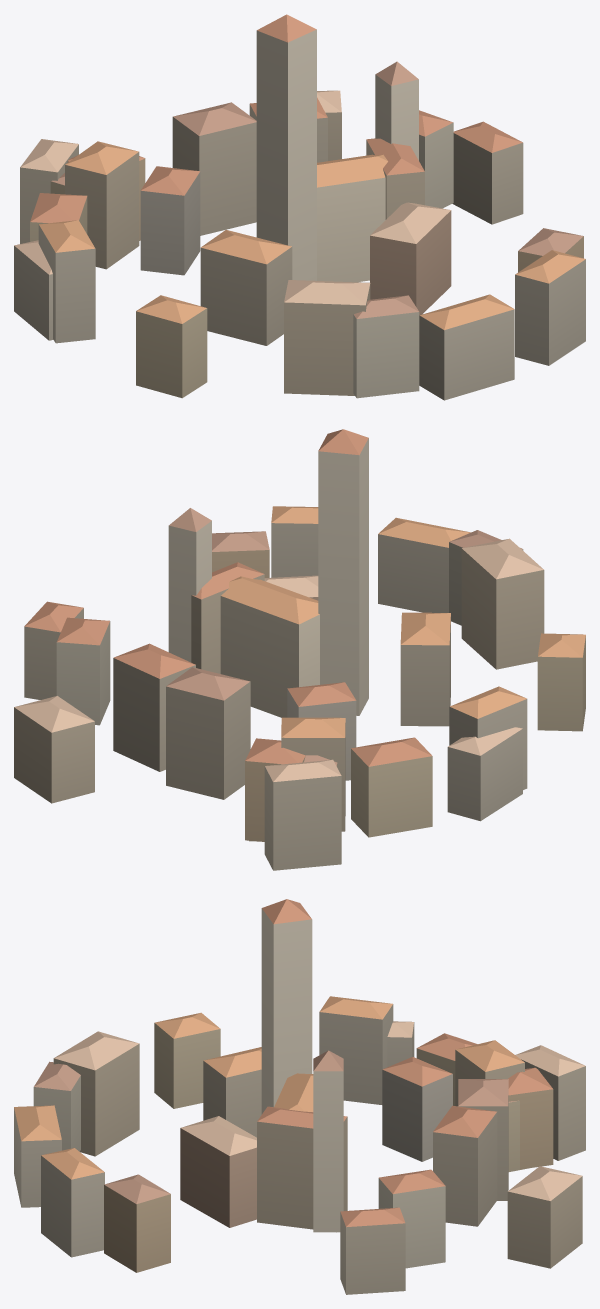
The model's file is SM_BM_BVV_Village_3.glb.
The picture shows the model from 3 angles, top to bottom: view 1: azimuth 30°, elevation 25°; view 2: azimuth 150°, elevation 25°; view 3: azimuth 270°, elevation 25°; orthographic projection. The views are drawn at different scales.
Visible parts, largest first — view 1: SM_BM_BVV_Village_3; view 2: SM_BM_BVV_Village_3; view 3: SM_BM_BVV_Village_3.
Part boxes in pixels (x1,y1,x2,y2): SM_BM_BVV_Village_3: (14, 14, 585, 400); SM_BM_BVV_Village_3: (14, 429, 585, 870); SM_BM_BVV_Village_3: (14, 899, 585, 1294).
Bounding box in the file's own units: 129 × 79.71 × 142.
